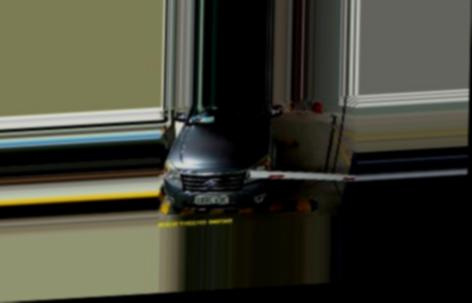License_Plate: (194, 192, 231, 206)
